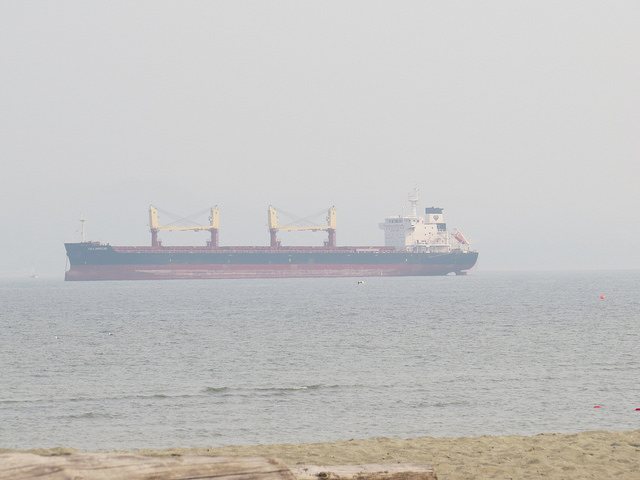bulk carrier: (64, 194, 481, 282)
